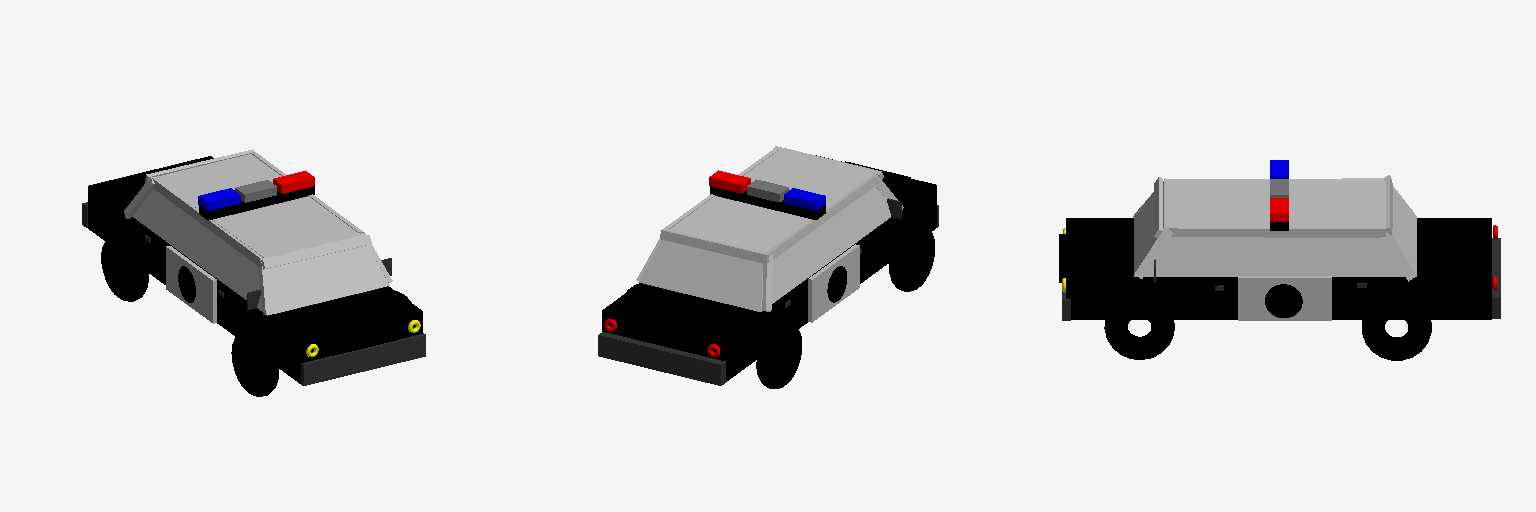
Rendered from Patrulla.obj.
3 views of the same model, side by side, from view 1: azimuth 30°, elevation 25°; view 2: azimuth 150°, elevation 25°; view 3: azimuth 270°, elevation 25° (orthographic).
Size of the model in its own units: 203 by 162 by 467.